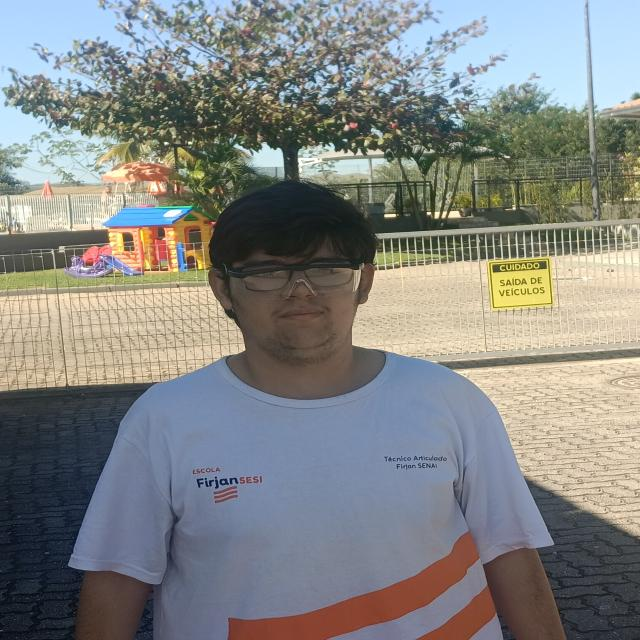oculos-epi: (225, 261, 363, 300)
